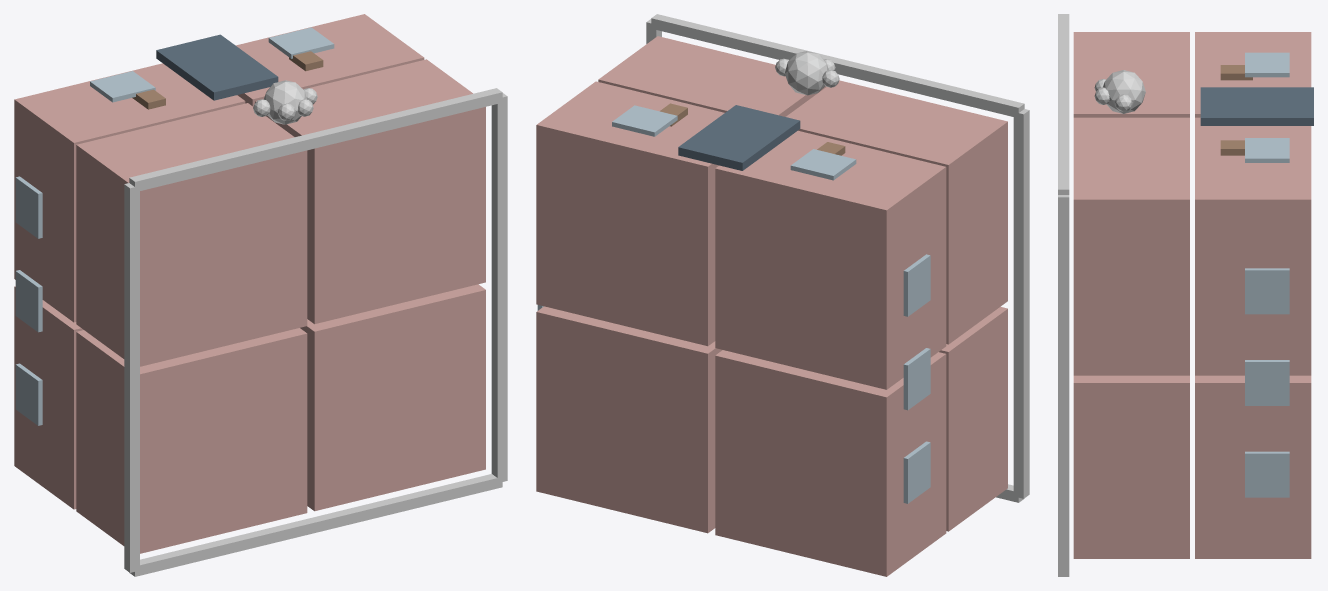
The model's file is building-pet-shop.glb.
3 renders of one model, left to right at view 1: azimuth 30°, elevation 25°; view 2: azimuth 150°, elevation 25°; view 3: azimuth 270°, elevation 25°, orthographic. The views are drawn at different scales.
Parts seen in each view (by area): view 1: world; view 2: world; view 3: world.
Boxes of the visible parts, x1,y1,x2,y2 form: world: (14, 14, 507, 576); world: (536, 14, 1029, 576); world: (1058, 14, 1313, 576).
Size of the model in its own units: 10.56 by 11.38 by 6.32.
